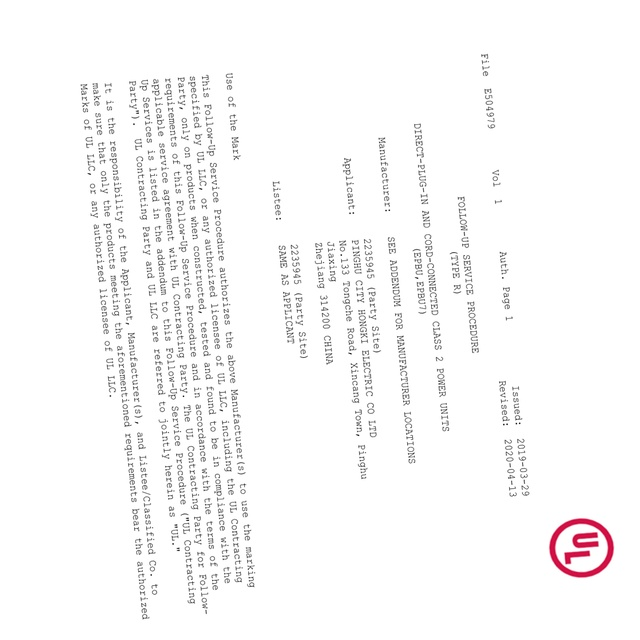ul: (548, 517, 612, 580)
